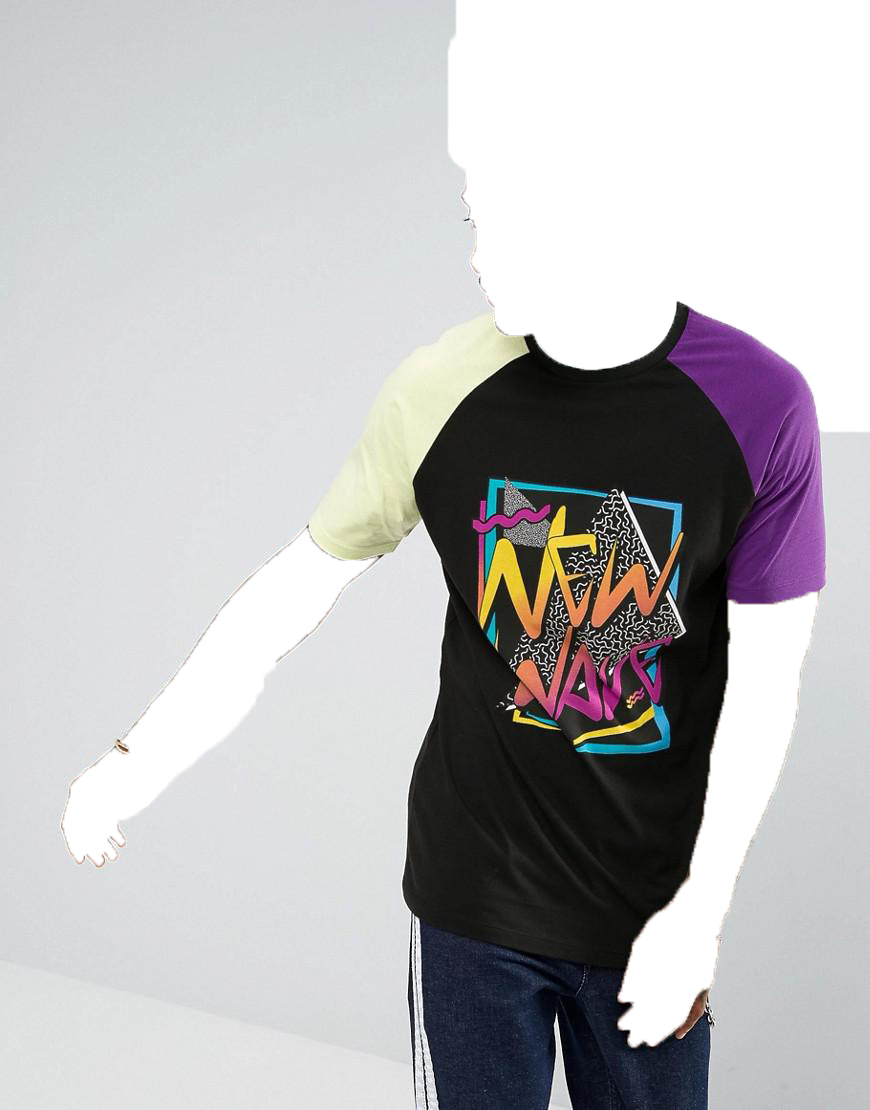teeshirt: (303, 296, 812, 1000)
